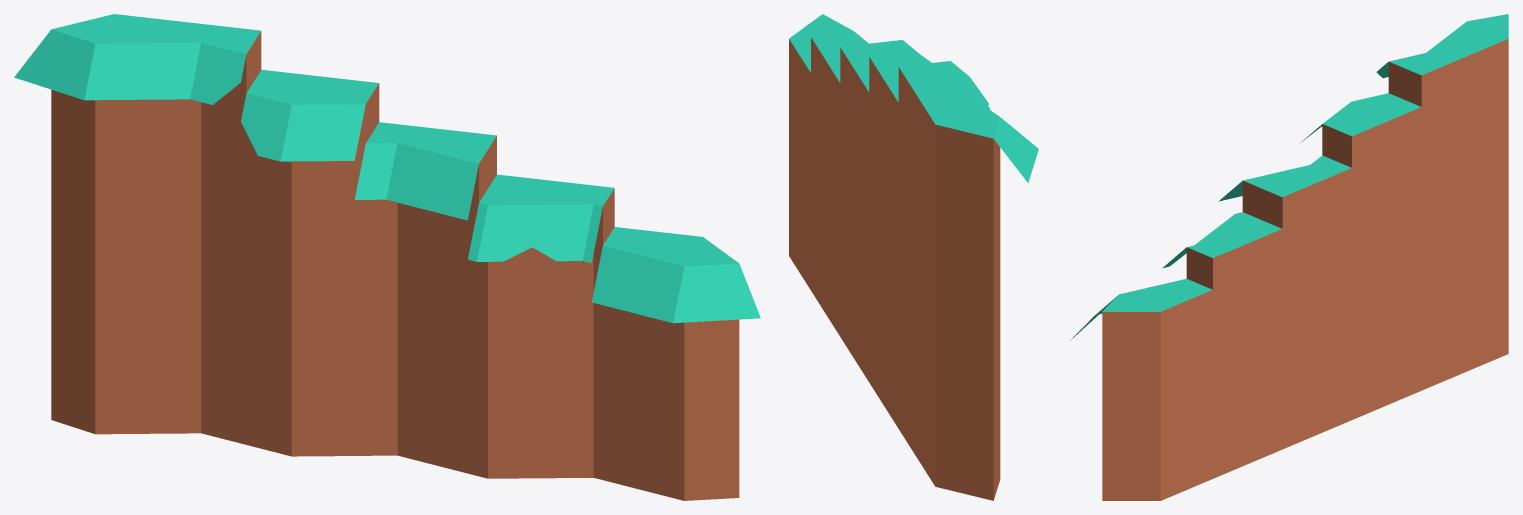
Rendered from cliff_stairBorderDiagonal_upper_left_rock.fbx.
The picture shows the model from 3 angles, left to right: view 1: azimuth 30°, elevation 25°; view 2: azimuth 150°, elevation 25°; view 3: azimuth 270°, elevation 25°; orthographic projection. The views are drawn at different scales.
Visible parts, largest first — view 1: cliff_topDiagonal_rock; view 2: cliff_topDiagonal_rock; view 3: cliff_topDiagonal_rock.
Boxes of the visible parts, x1=… form: cliff_topDiagonal_rock: x1=14, y1=14, x2=760, y2=500; cliff_topDiagonal_rock: x1=789, y1=14, x2=1038, y2=500; cliff_topDiagonal_rock: x1=1070, y1=14, x2=1508, y2=500.
Size of the model in its own units: 12.68 by 10 by 12.68.
